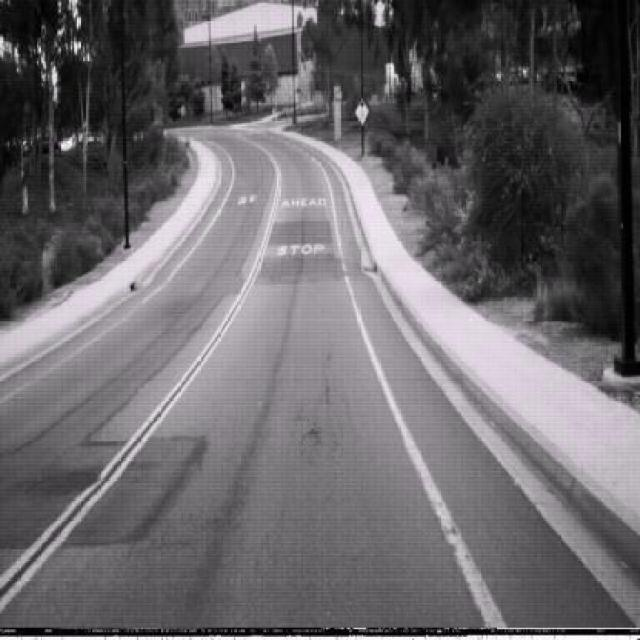stopAhead: (354, 97, 369, 126)
